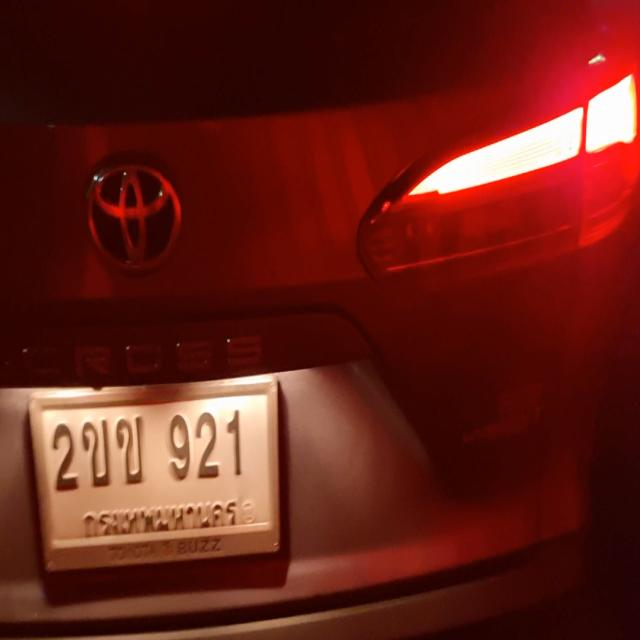license_plate: (25, 381, 285, 579)
